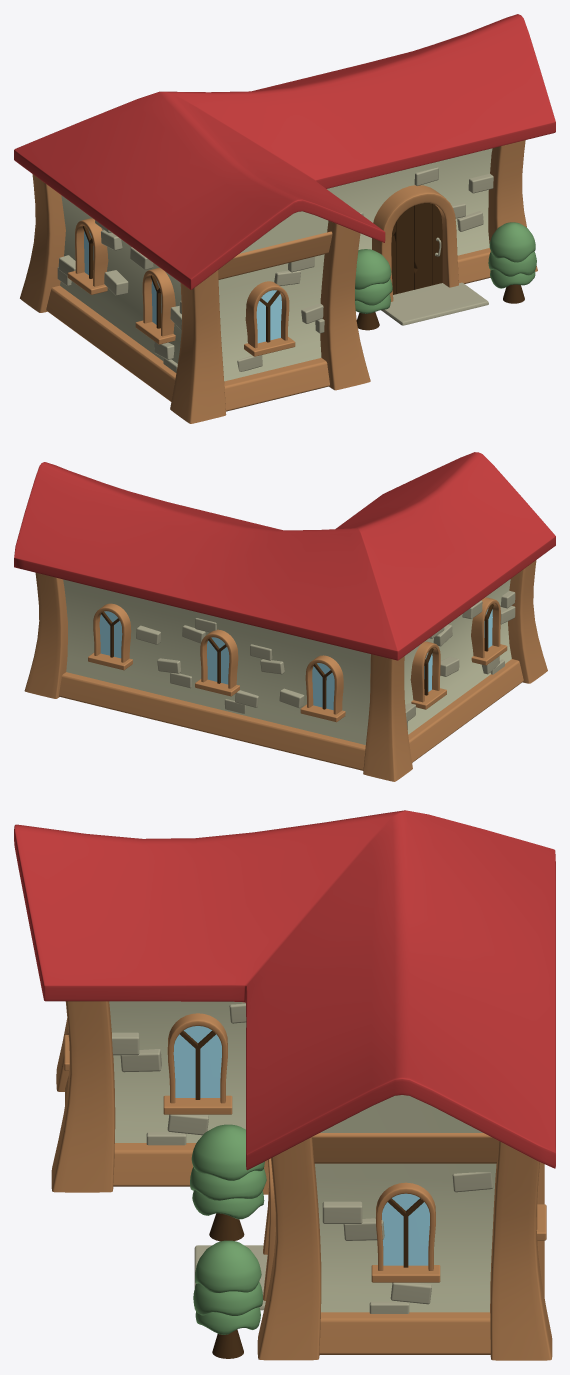
The model's file is stylized_house_demo.glb.
The picture shows the model from 3 angles, top to bottom: view 1: azimuth 30°, elevation 25°; view 2: azimuth 150°, elevation 25°; view 3: azimuth 270°, elevation 25°; orthographic projection. The views are drawn at different scales.
Visible parts, largest first — view 1: pCube22, pCube1, polySurface2, pCube3, pCube2, pCube21, pCube6, pCylinder2, pSphere5, pCube33, pCube4, pCube41 (+4 smaller); view 2: pCube22, pCube1, polySurface2, pCube6, pCube5, pCube3, pCube40, pCube38, pCube39, pCube35, pCube34; view 3: pCube22, pCube1, polySurface2, pCube4, pCube5, pCube2, pSphere4, pSphere5, pCube36, pCube37, polySurface1, pCube24 (×2) (+4 smaller).
Boxes of the visible parts, left/top/right/bottom form: pCube22: left=14, top=14, right=555, bottom=289; pCube1: left=60, top=148, right=492, bottom=381; polySurface2: left=46, top=231, right=332, bottom=411; pCube3: left=170, top=270, right=226, bottom=423; pCube2: left=320, top=220, right=370, bottom=390; pCube21: left=391, top=203, right=442, bottom=294; pCube6: left=20, top=174, right=65, bottom=312; pCylinder2: left=372, top=185, right=458, bottom=301; pSphere5: left=488, top=222, right=536, bottom=303; pCube33: left=244, top=281, right=295, bottom=356; pCube4: left=488, top=140, right=537, bottom=271; pCube41: left=381, top=282, right=488, bottom=325; pCube22: left=14, top=452, right=555, bottom=660; pCube1: left=63, top=579, right=511, bottom=744; polySurface2: left=59, top=659, right=523, bottom=770; pCube6: left=363, top=654, right=412, bottom=781; pCube5: left=24, top=573, right=67, bottom=698; pCube3: left=508, top=560, right=547, bottom=683; pCube40: left=300, top=655, right=345, bottom=722; pCube38: left=88, top=603, right=132, bottom=670; pCube39: left=195, top=629, right=239, bottom=696; pCube35: left=410, top=641, right=446, bottom=709; pCube34: left=471, top=597, right=507, bottom=665; pCube22: left=14, top=810, right=555, bottom=1170; pCube1: left=109, top=1001, right=496, bottom=1312; polySurface2: left=65, top=1076, right=544, bottom=1354; pCube4: left=257, top=1137, right=321, bottom=1360; pCube5: left=490, top=1141, right=552, bottom=1360; pCube2: left=51, top=1001, right=115, bottom=1192; pSphere4: left=190, top=1124, right=266, bottom=1241; pSphere5: left=193, top=1240, right=263, bottom=1358; pCube36: left=163, top=1013, right=232, bottom=1114; pCube37: left=371, top=1182, right=440, bottom=1282; polySurface1: left=312, top=1133, right=498, bottom=1163; pCube24 (×2): left=167, top=1114, right=431, bottom=1304.
Bounding box in the file's own units: 1.41 × 0.6907 × 1.01.
